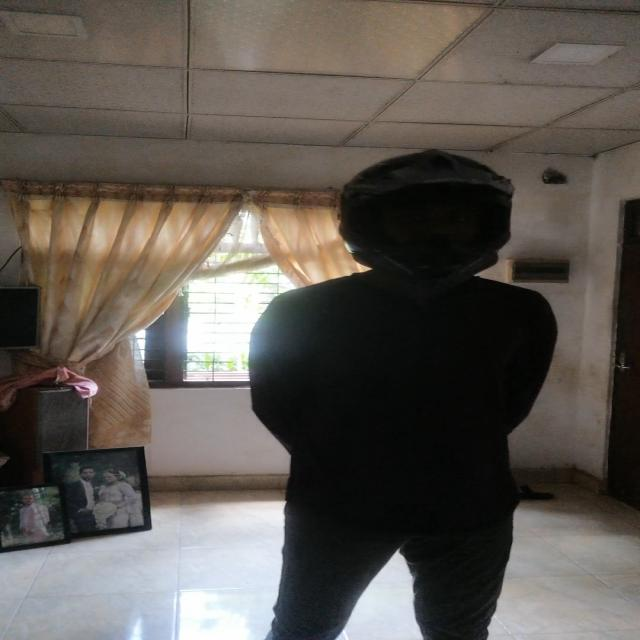Helmet_Wearer: (321, 151, 538, 279)
Person: (250, 156, 536, 636)
